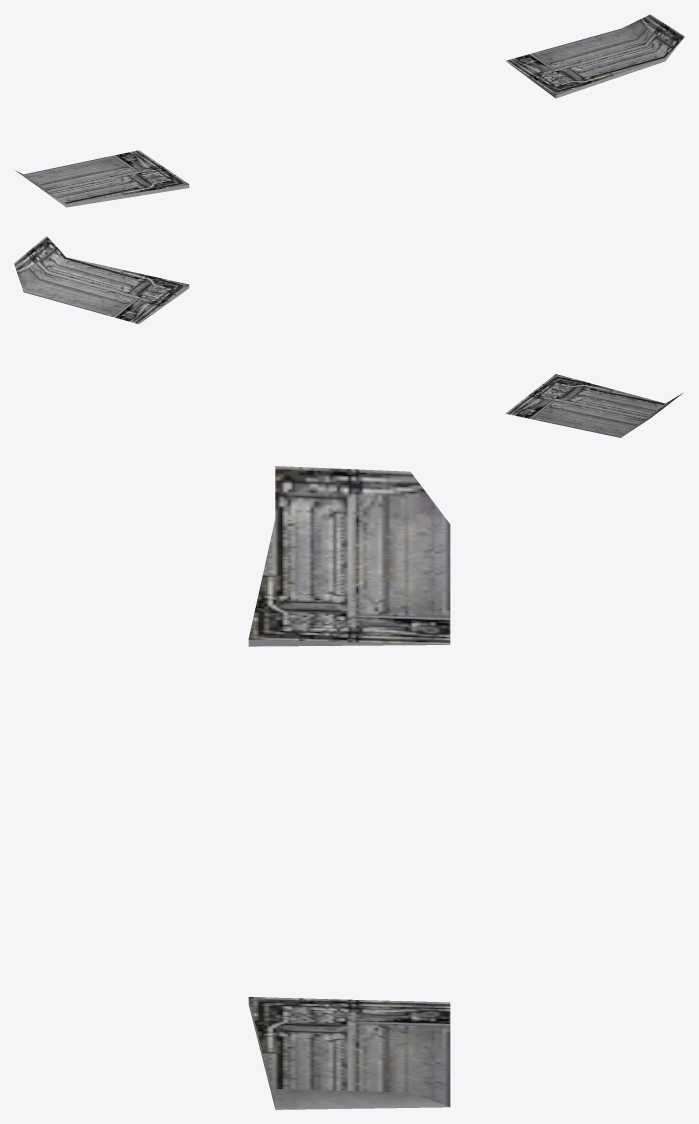
Rendered from lambda_geardoor_b_l3.fbx.
3 views of the same model, one above another, from view 1: azimuth 30°, elevation 25°; view 2: azimuth 150°, elevation 25°; view 3: azimuth 270°, elevation 25° (orthographic). The views are drawn at different scales.
Visible parts, largest first — view 1: mesh_node; view 2: mesh_node; view 3: mesh_node.
Boxes of the visible parts, bbox=[...] form: mesh_node: bbox=[15, 14, 684, 207]; mesh_node: bbox=[14, 236, 683, 437]; mesh_node: bbox=[248, 466, 450, 1109].
Bounding box in the file's own units: 13.68 × 0.4898 × 1.88.
